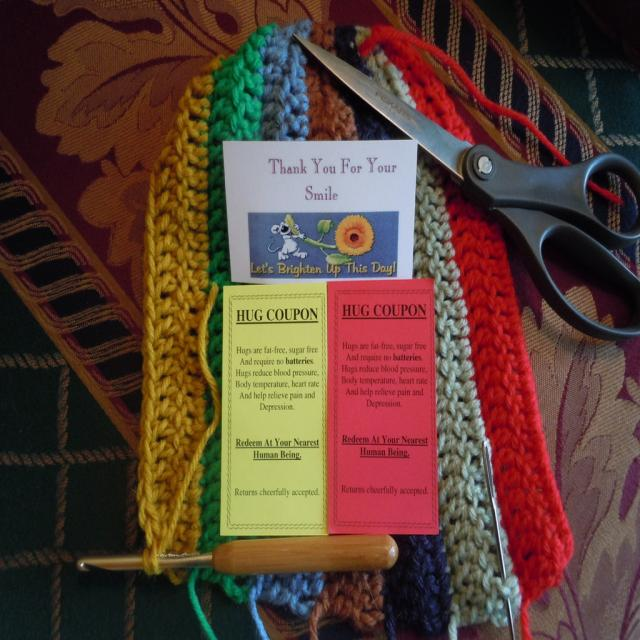scissors: (292, 31, 640, 340)
